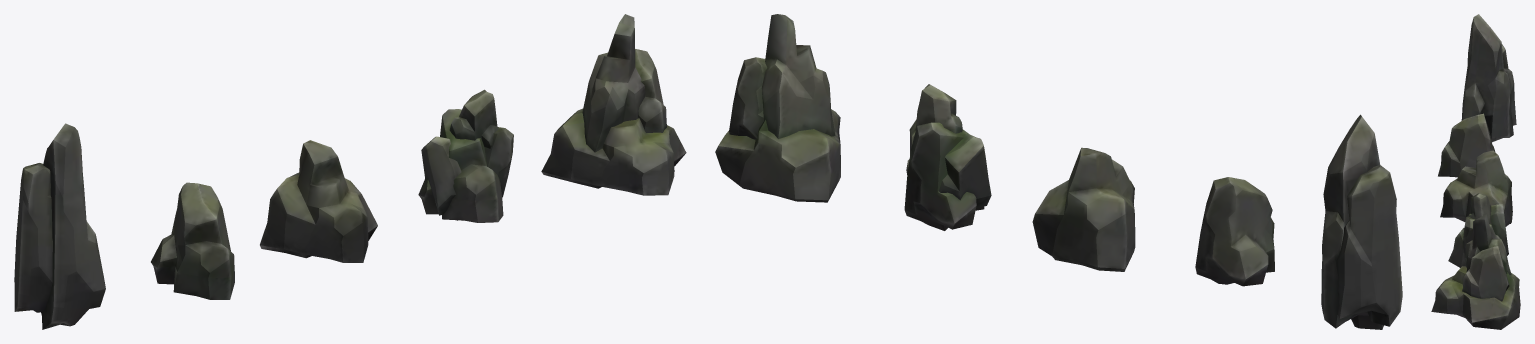
Rendered from Rocks.glb.
3 renders of one model, left to right at view 1: azimuth 30°, elevation 25°; view 2: azimuth 150°, elevation 25°; view 3: azimuth 270°, elevation 25°, orthographic. The views are drawn at different scales.
Visible parts, largest first — view 1: Rock_5, Rock_4, Rock_2, Rock_3, Rock_1; view 2: Rock_5, Rock_4, Rock_2, Rock_3, Rock_1; view 3: Rock_5, Rock_4, Rock_2, Rock_1, Rock_3.
Boxes of the visible parts, left/top/right/bottom form: Rock_5: left=541, top=14, right=686, bottom=195; Rock_4: left=14, top=123, right=105, bottom=329; Rock_2: left=260, top=140, right=377, bottom=262; Rock_3: left=418, top=89, right=513, bottom=222; Rock_1: left=151, top=182, right=234, bottom=299; Rock_5: left=715, top=14, right=840, bottom=202; Rock_4: left=1321, top=114, right=1402, bottom=329; Rock_2: left=1032, top=147, right=1135, bottom=271; Rock_3: left=904, top=84, right=991, bottom=230; Rock_1: left=1195, top=177, right=1274, bottom=286; Rock_5: left=1431, top=214, right=1520, bottom=329; Rock_4: left=1461, top=14, right=1516, bottom=142; Rock_2: left=1440, top=150, right=1512, bottom=226; Rock_1: left=1438, top=113, right=1495, bottom=177; Rock_3: left=1448, top=193, right=1508, bottom=267.
Bounding box in the file's own units: 7.28 × 2.15 × 1.32.
Materials: 1 (1 with a texture image).
